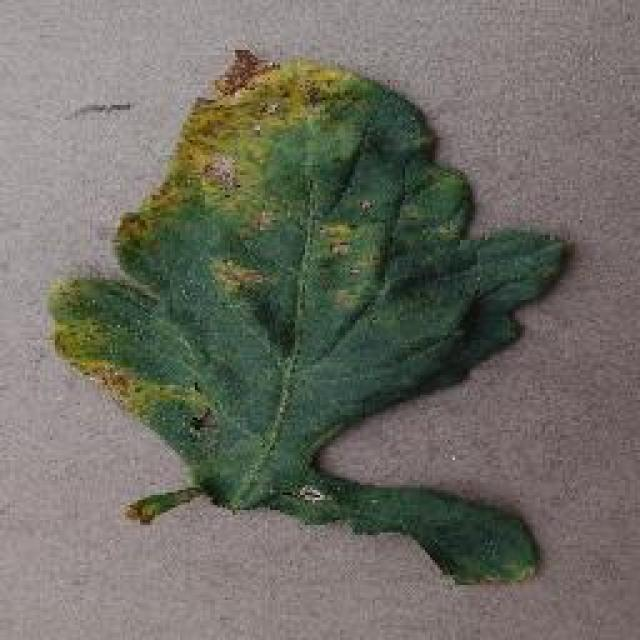Tomato___Bacterial_spot: (45, 41, 577, 590)
